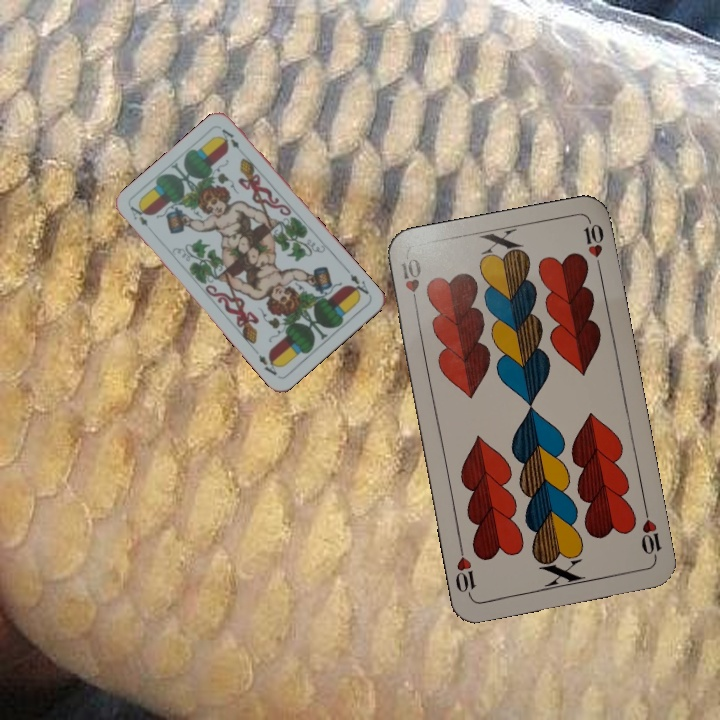EA: (345, 270, 371, 300), (126, 201, 151, 229)
H10: (637, 504, 665, 563), (397, 254, 424, 312)
